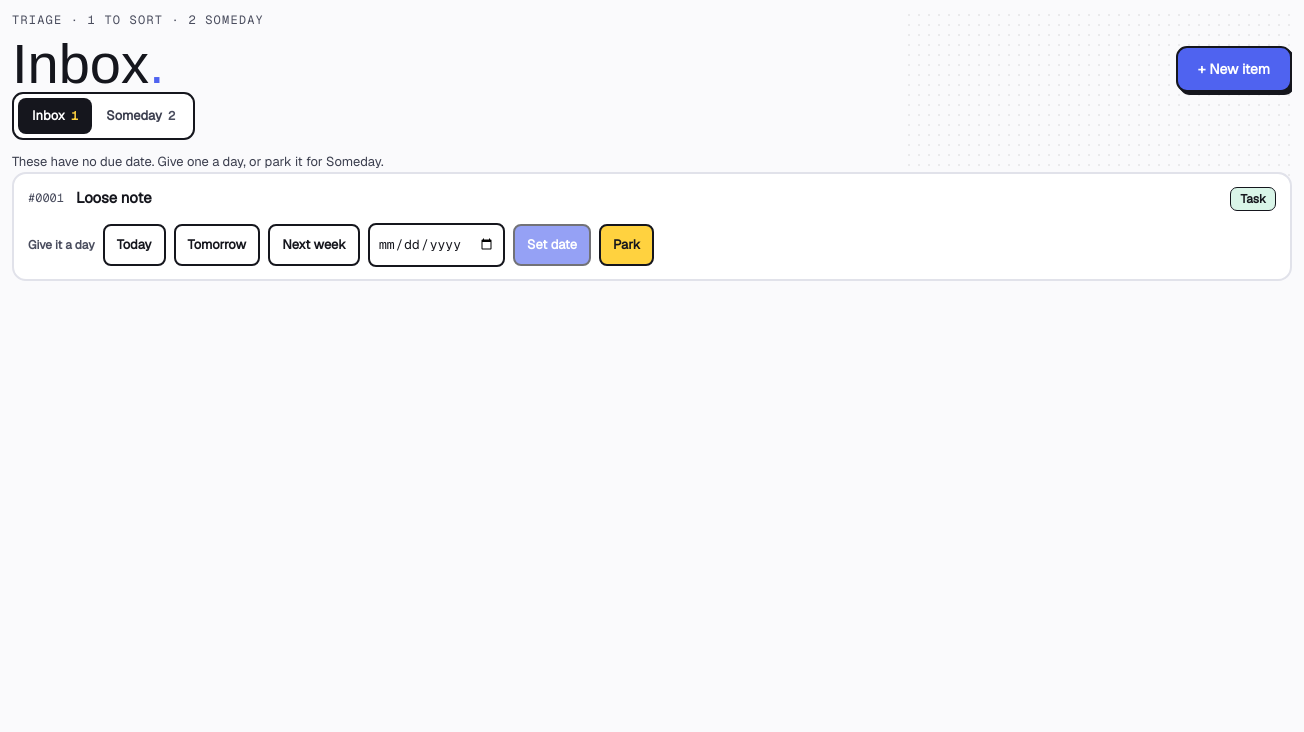
it: Inbox triage › sets a deadline without sending someday
Click the button with aria-label "Tomorrow for Loose note".
click(217, 244)  # box [174, 224, 260, 266]
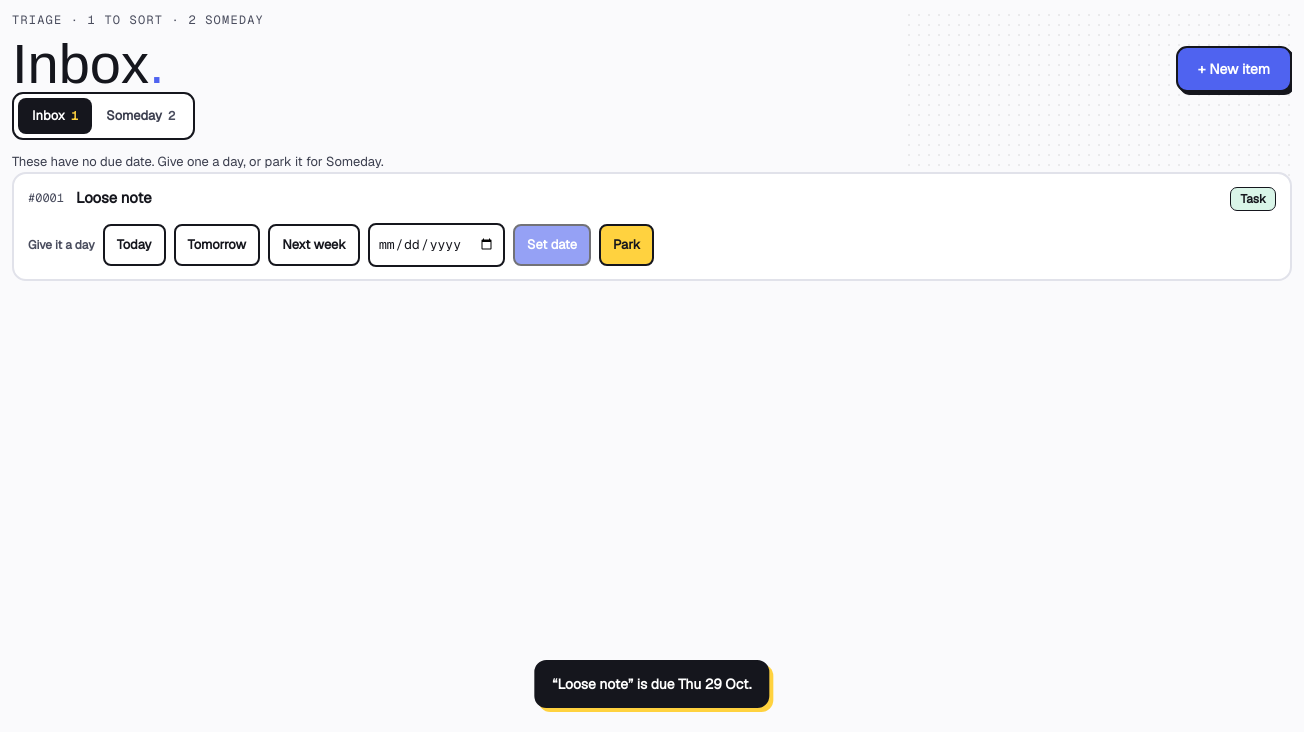
Expected: the text "“Loose note” is due Thu 29 Oct." is shown, [534, 660, 770, 708]
